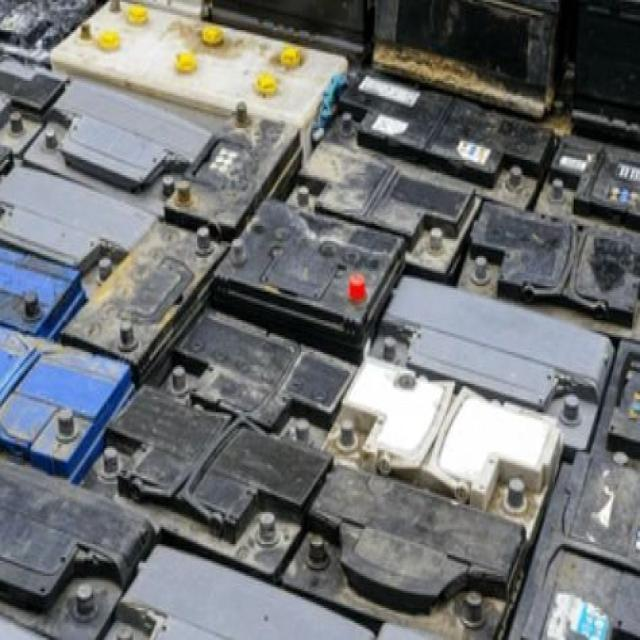electronic: (180, 175, 422, 376)
